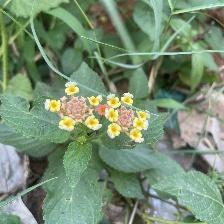common lanthana: (47, 77, 159, 145)
